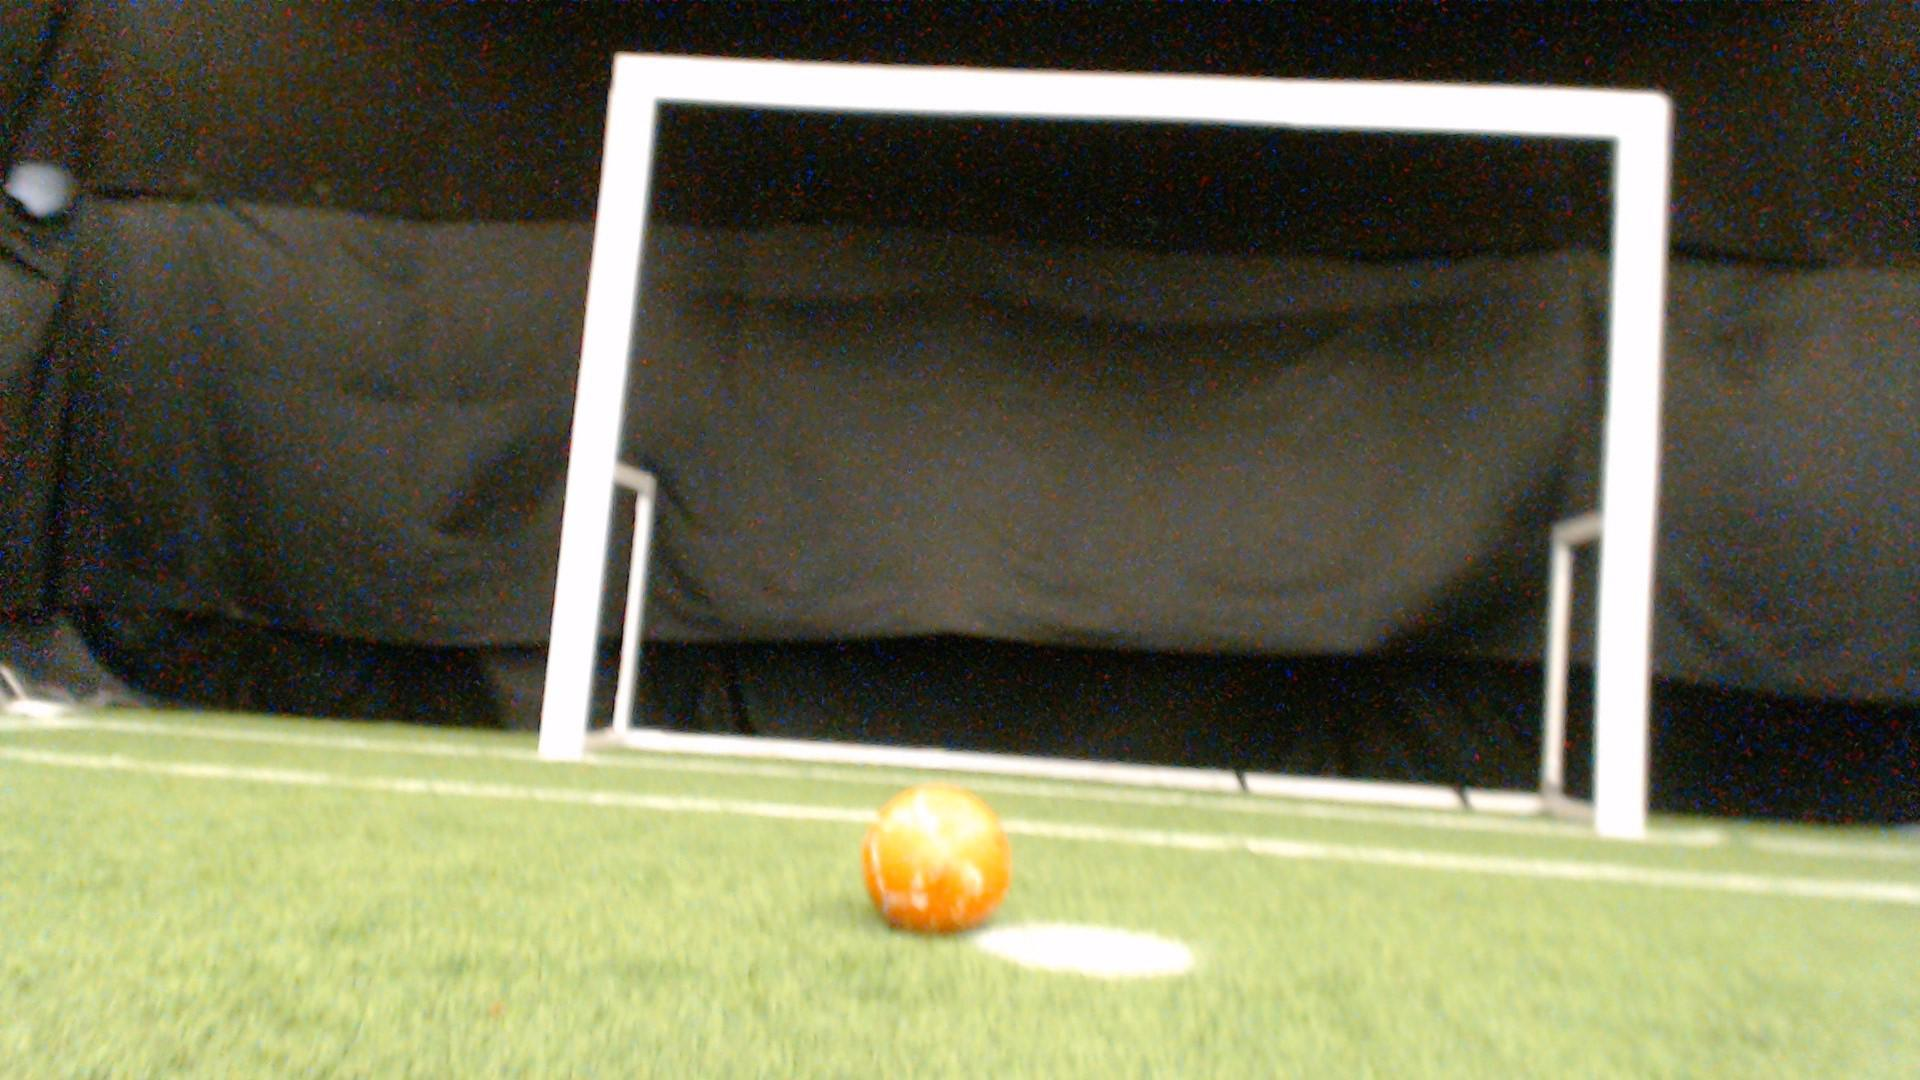bola: (849, 770, 1025, 959)
